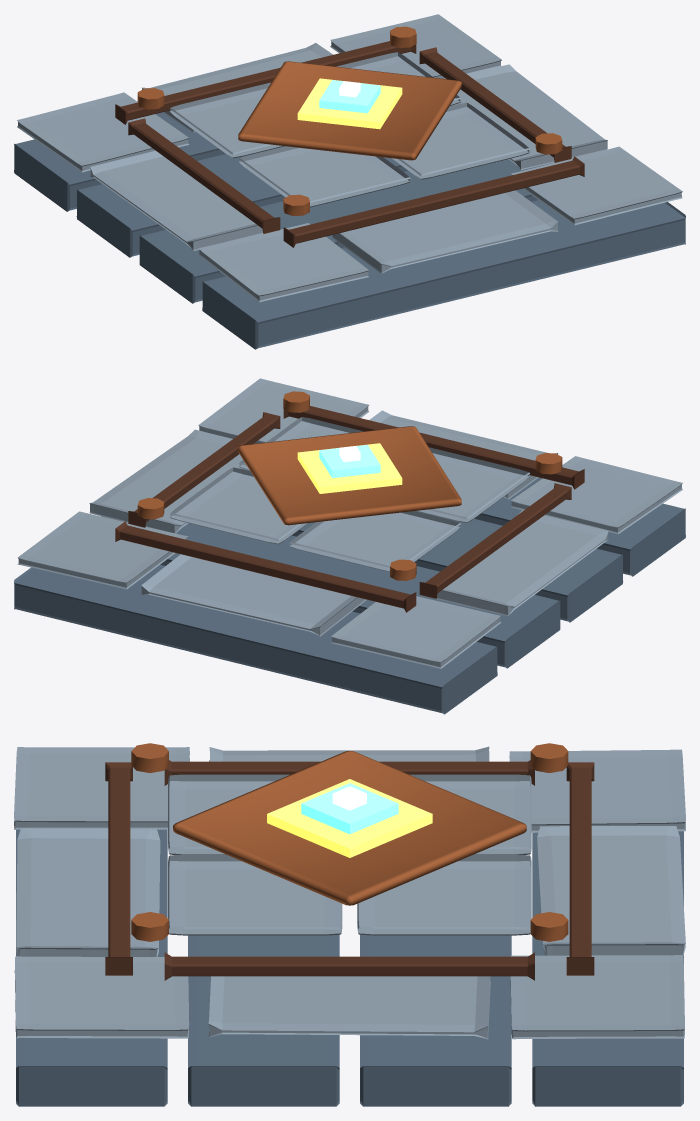
Rendered from Druckplatte_von_Ahnhoehe.glb.
The picture shows the model from 3 angles, top to bottom: view 1: azimuth 30°, elevation 25°; view 2: azimuth 150°, elevation 25°; view 3: azimuth 270°, elevation 25°; orthographic projection. The views are drawn at different scales.
Parts seen in each view (by area): view 1: PressurePlate_Floor_Tiles, PressurePlate_Base, Plate_Stone_Top, PressurePlate_Bronze_Frame, Plate_Bronze_Inset, Plate_Rune_Frame, PressurePlate_Bolts, Plate_Rune_Cyan; view 2: PressurePlate_Floor_Tiles, PressurePlate_Base, Plate_Stone_Top, PressurePlate_Bronze_Frame, Plate_Bronze_Inset, Plate_Rune_Frame, PressurePlate_Bolts, Plate_Rune_Cyan; view 3: PressurePlate_Floor_Tiles, PressurePlate_Base, Plate_Stone_Top, Plate_Bronze_Inset, PressurePlate_Bronze_Frame, Plate_Rune_Frame, PressurePlate_Bolts, Plate_Rune_Cyan, Plate_Rune_Core.
Part boxes in pixels (bbox=[...]): PressurePlate_Floor_Tiles: bbox=[17, 14, 682, 302]; PressurePlate_Base: bbox=[14, 112, 685, 349]; Plate_Stone_Top: bbox=[170, 52, 529, 207]; PressurePlate_Bronze_Frame: bbox=[115, 41, 584, 247]; Plate_Bronze_Inset: bbox=[238, 61, 461, 160]; Plate_Rune_Frame: bbox=[297, 78, 402, 129]; PressurePlate_Bolts: bbox=[137, 26, 562, 215]; Plate_Rune_Cyan: bbox=[319, 80, 380, 113]; PressurePlate_Floor_Tiles: bbox=[17, 378, 682, 668]; PressurePlate_Base: bbox=[14, 477, 685, 714]; Plate_Stone_Top: bbox=[170, 417, 529, 572]; PressurePlate_Bronze_Frame: bbox=[115, 406, 584, 612]; Plate_Bronze_Inset: bbox=[238, 426, 461, 525]; Plate_Rune_Frame: bbox=[297, 443, 402, 493]; PressurePlate_Bolts: bbox=[137, 391, 562, 580]; Plate_Rune_Cyan: bbox=[319, 444, 380, 478]; PressurePlate_Floor_Tiles: bbox=[14, 746, 685, 1039]; PressurePlate_Base: bbox=[16, 829, 683, 1106]; Plate_Stone_Top: bbox=[168, 774, 531, 935]; Plate_Bronze_Inset: bbox=[173, 751, 526, 905]; PressurePlate_Bronze_Frame: bbox=[105, 760, 594, 980]; Plate_Rune_Frame: bbox=[267, 779, 432, 857]; PressurePlate_Bolts: bbox=[131, 743, 568, 941]; Plate_Rune_Cyan: bbox=[301, 783, 398, 834]; Plate_Rune_Core: bbox=[332, 786, 366, 810].
Size of what is drawn, in the model's own units: 1.98 by 0.5429 by 1.95.
